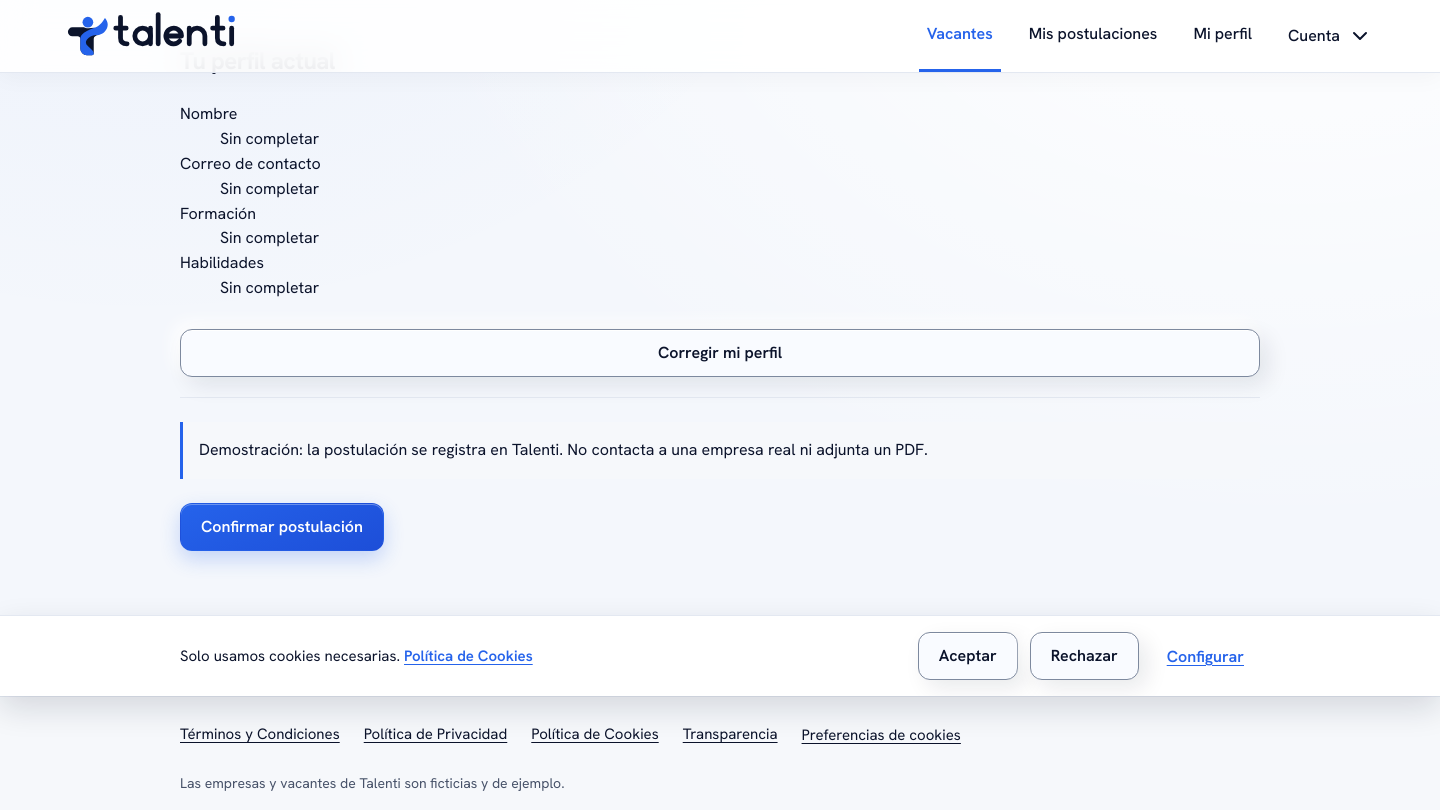
Review before applying (008-14 to 008-17, redesign E5) › 008-17: failure preserves review and retry confirms successfully
(page scrolled)
Click the button "Confirmar postulación" at (282, 527), box x1=180 y1=503 x2=384 y2=551
(page scrolled)
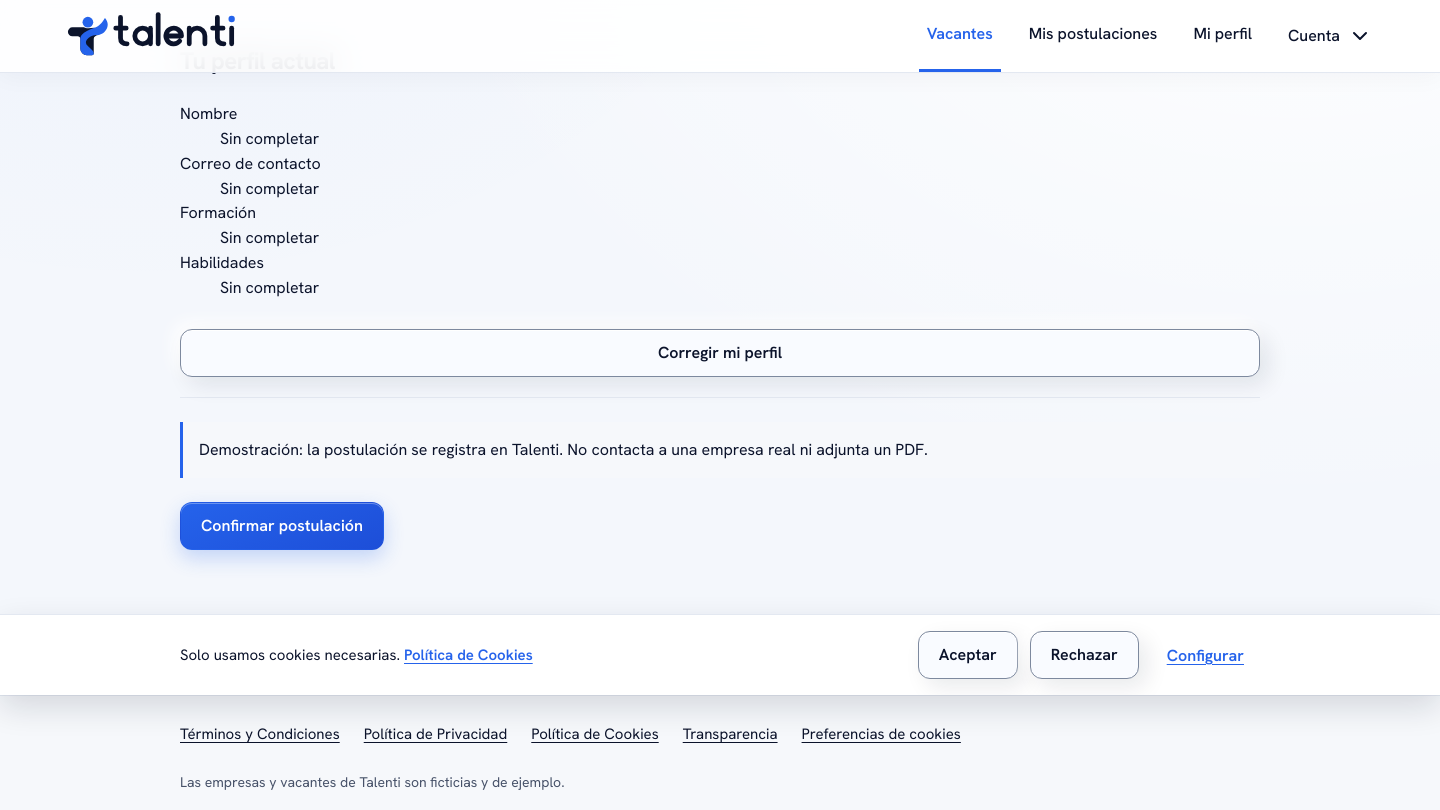
Click the button "Confirmar postulación" at (282, 526), box x1=180 y1=502 x2=384 y2=550
(page scrolled)
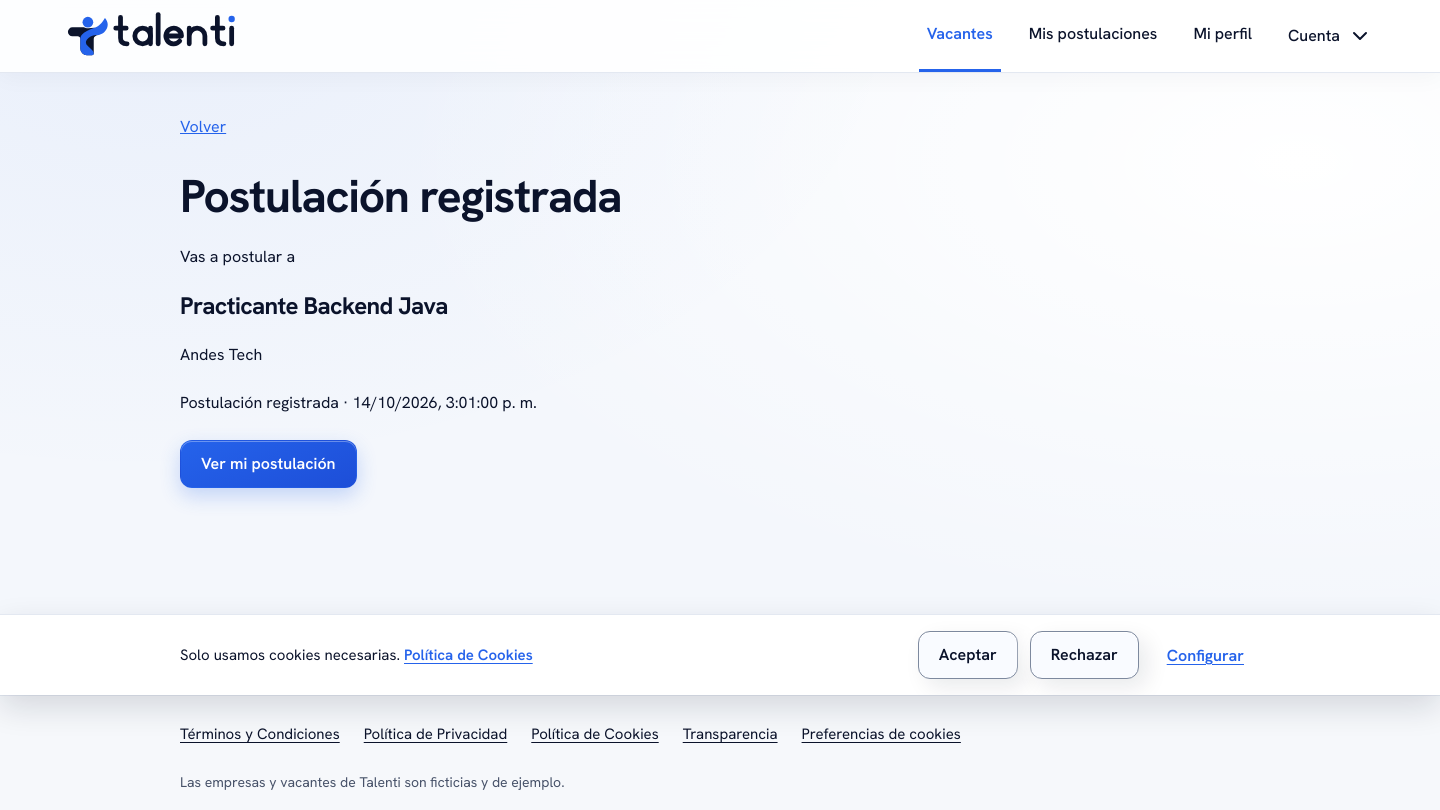
Now the link "Ver mi postulación" is shown, box x1=180 y1=440 x2=356 y2=488
